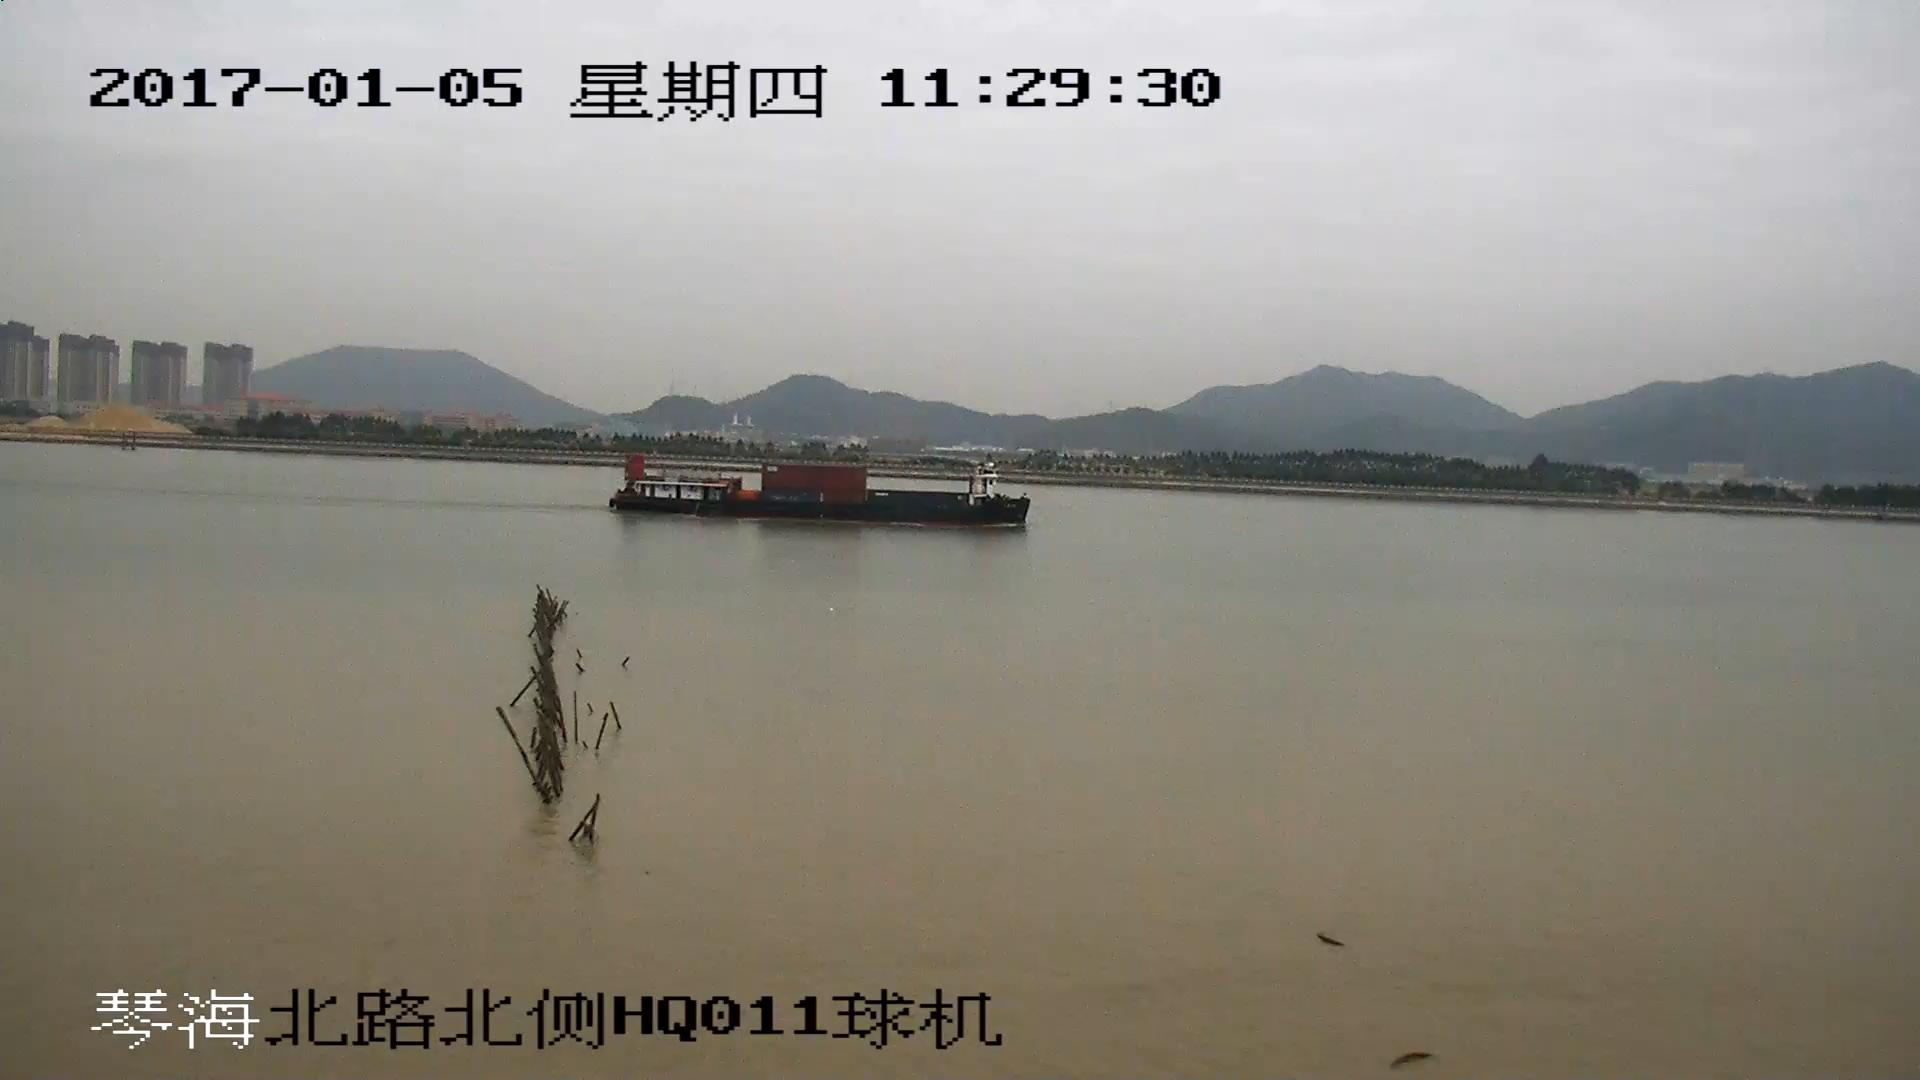container ship: (608, 455, 1033, 531)
